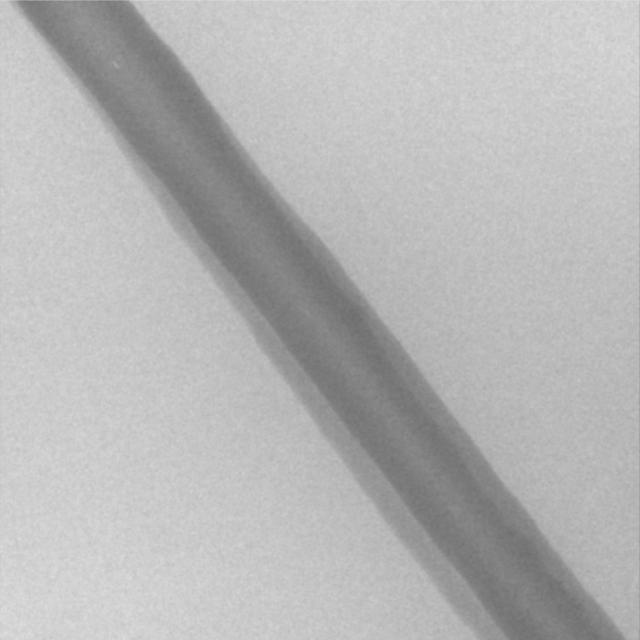air hole: (109, 56, 119, 71)
